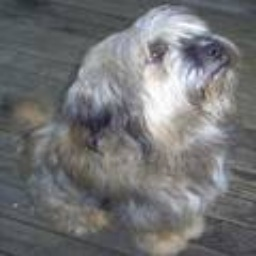dog: (16, 6, 241, 253)
